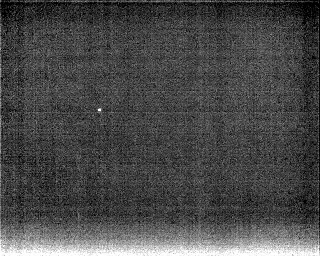BIRD: (95, 105, 104, 116)
